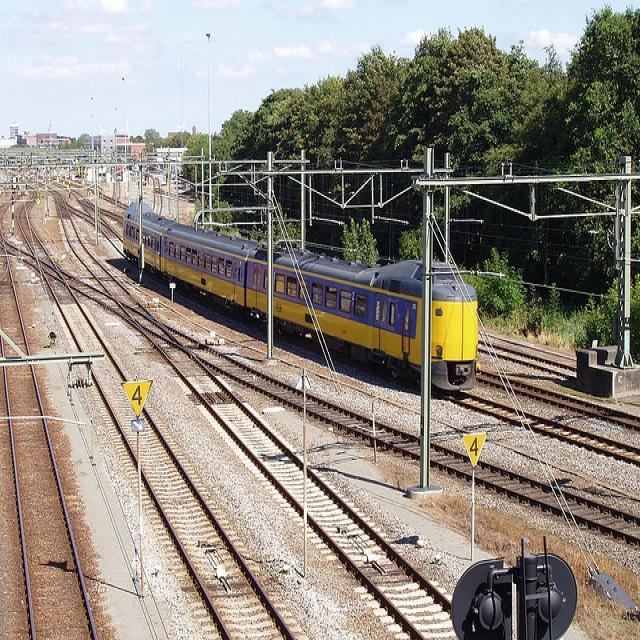pole: (297, 370, 312, 574), (133, 412, 146, 595)
